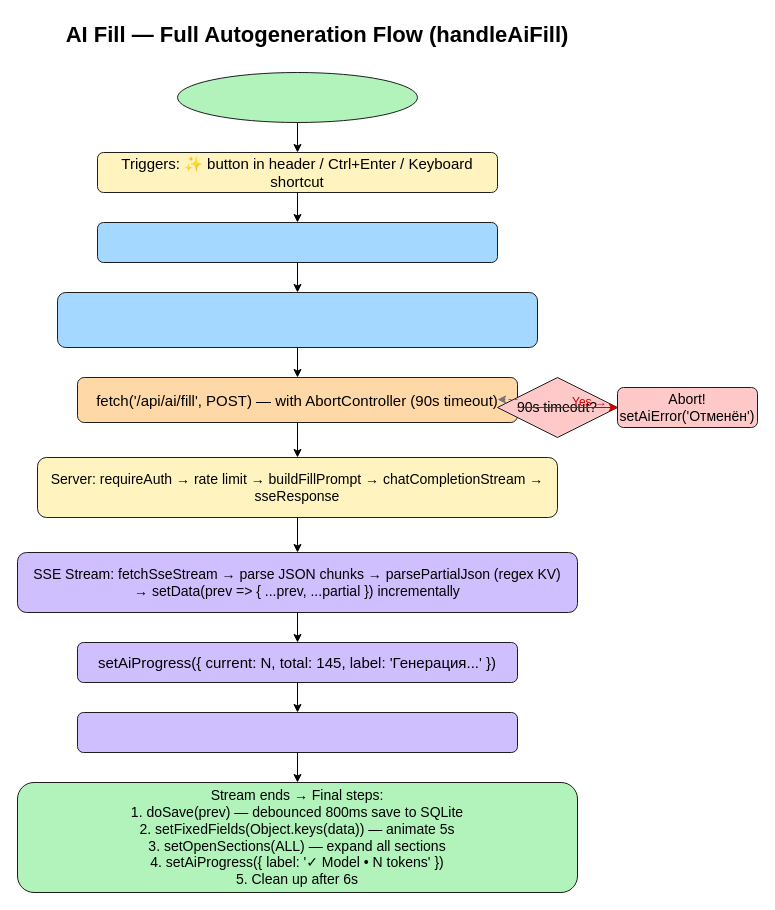
This 775x910 diagram has some shape labels left out. Here are the shapes that lost their labels. From the top down, the centre of each, then its label:
At (x=297, y=97): "User clicks ✨ or Ctrl+Enter".
At (x=297, y=242): "useAiFill.handleAiFill() — abort previous, set loading".
At (x=297, y=320): "Prepare: { existingData, context, stream: true, provider, model, apiKey }".
At (x=297, y=732): "First chunk triggers pushUndo(prev) — save state for Ctrl+Z".
